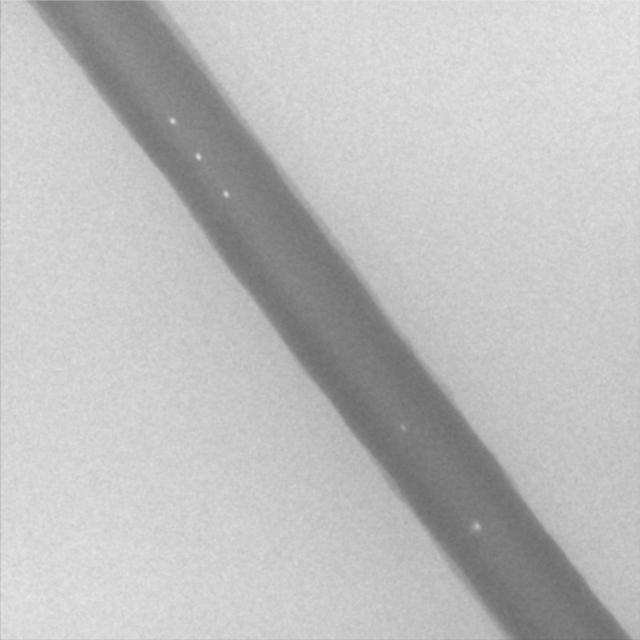air hole: (471, 521, 482, 534), (167, 115, 177, 127), (193, 150, 203, 162), (397, 420, 407, 432), (223, 187, 231, 199)
